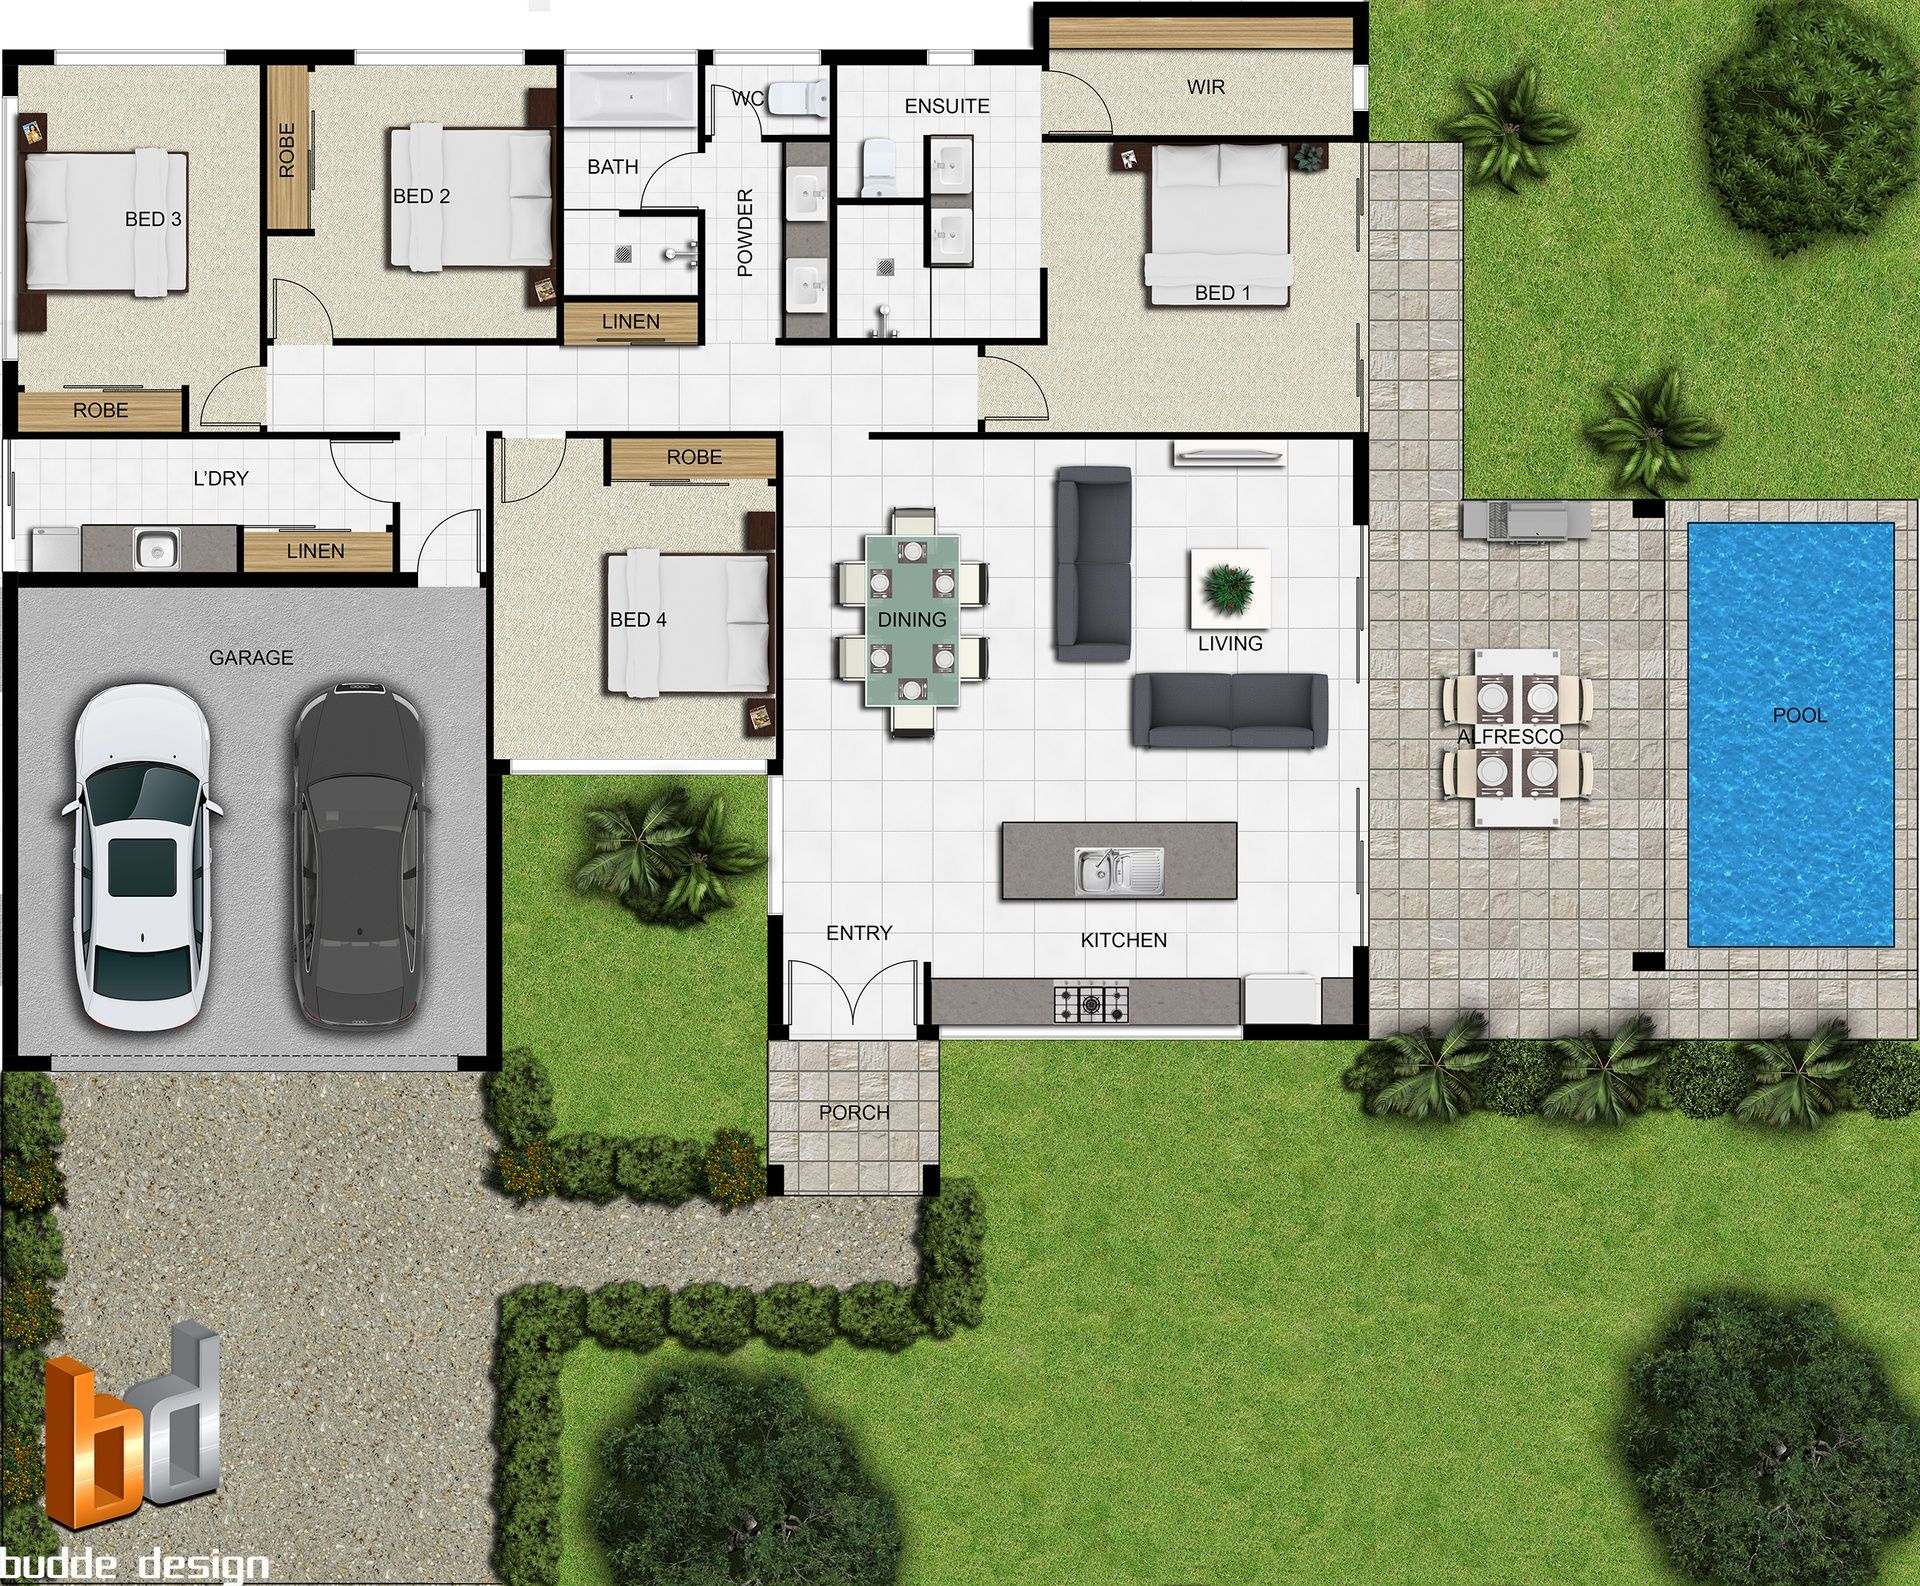door: (785, 945, 923, 1022), (268, 268, 348, 340), (630, 147, 710, 218), (974, 354, 1054, 426), (190, 360, 268, 432), (319, 437, 399, 507), (408, 505, 488, 575), (490, 435, 569, 505)
room: (483, 430, 781, 776), (3, 51, 268, 438), (1040, 135, 1370, 438), (262, 49, 561, 344), (828, 49, 1048, 346)
